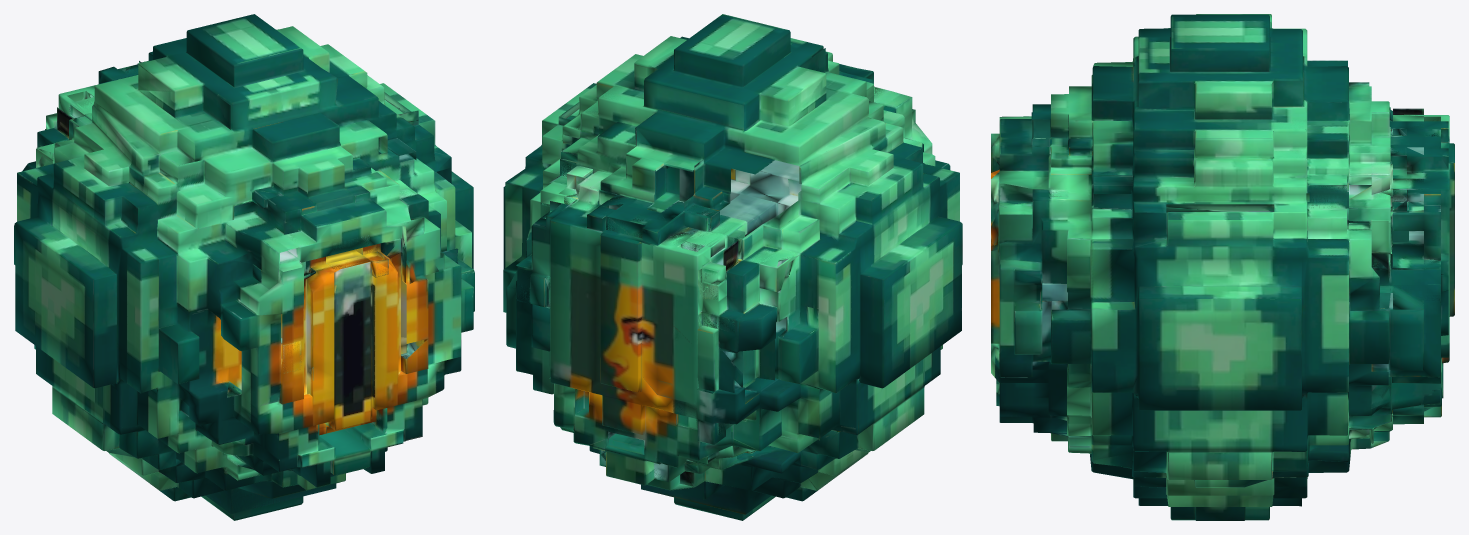
The model's file is エンダーアイ.glb.
3 renders of one model, left to right at view 1: azimuth 30°, elevation 25°; view 2: azimuth 150°, elevation 25°; view 3: azimuth 270°, elevation 25°, orthographic. The views are drawn at different scales.
Parts seen in each view (by area): view 1: Mesh_0; view 2: Mesh_0; view 3: Mesh_0.
Part boxes in pixels (x1,y1,x2,y2): Mesh_0: [14, 14, 474, 520]; Mesh_0: [503, 14, 962, 520]; Mesh_0: [991, 14, 1454, 520].
Size of the model in its own units: 1.66 by 1.91 by 1.7.
1 material, 1 textured.
